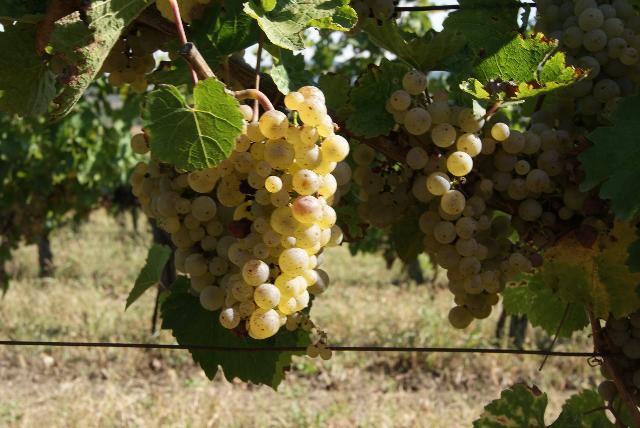grapes: (222, 88, 349, 339), (386, 70, 505, 328), (130, 154, 240, 311), (480, 116, 572, 225), (544, 0, 621, 128), (605, 5, 630, 76)
